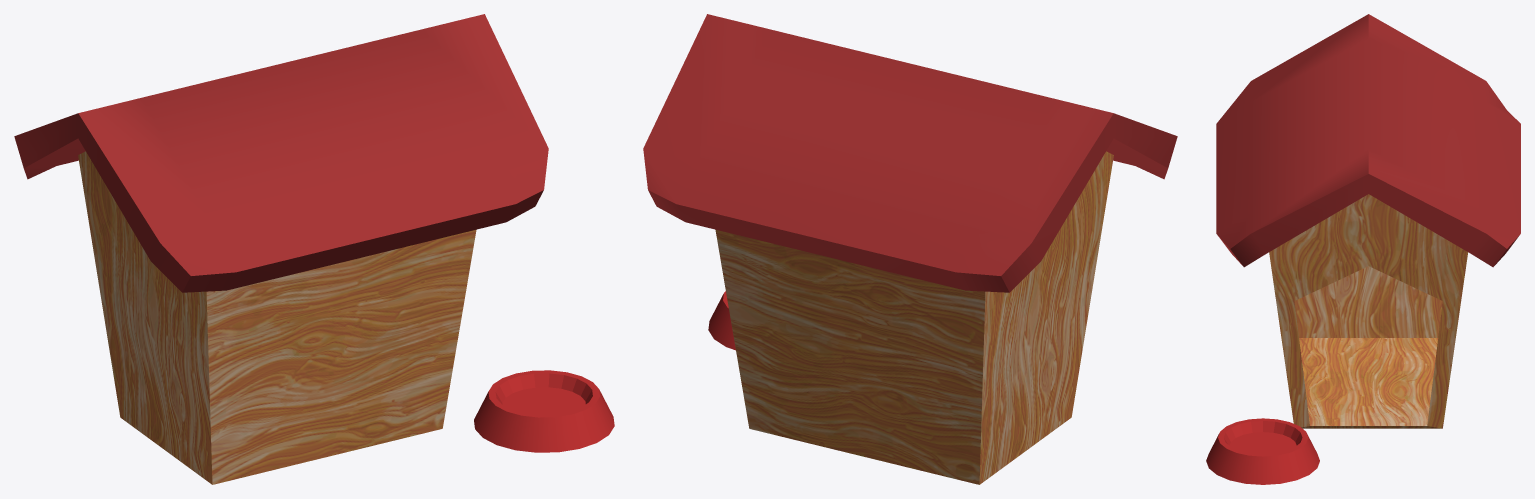
The model's file is DogHouse.fbx.
The picture shows the model from 3 angles, left to right: view 1: azimuth 30°, elevation 25°; view 2: azimuth 150°, elevation 25°; view 3: azimuth 270°, elevation 25°; orthographic projection. The views are drawn at different scales.
Visible parts, largest first — view 1: DogHouse; view 2: DogHouse; view 3: DogHouse.
Part boxes in pixels (left/top/right/bottom): DogHouse: left=14, top=14, right=614, bottom=484; DogHouse: left=643, top=14, right=1177, bottom=484; DogHouse: left=1206, top=14, right=1520, bottom=484.
Size of the model in its own units: 2.89 by 2.15 by 2.12.
